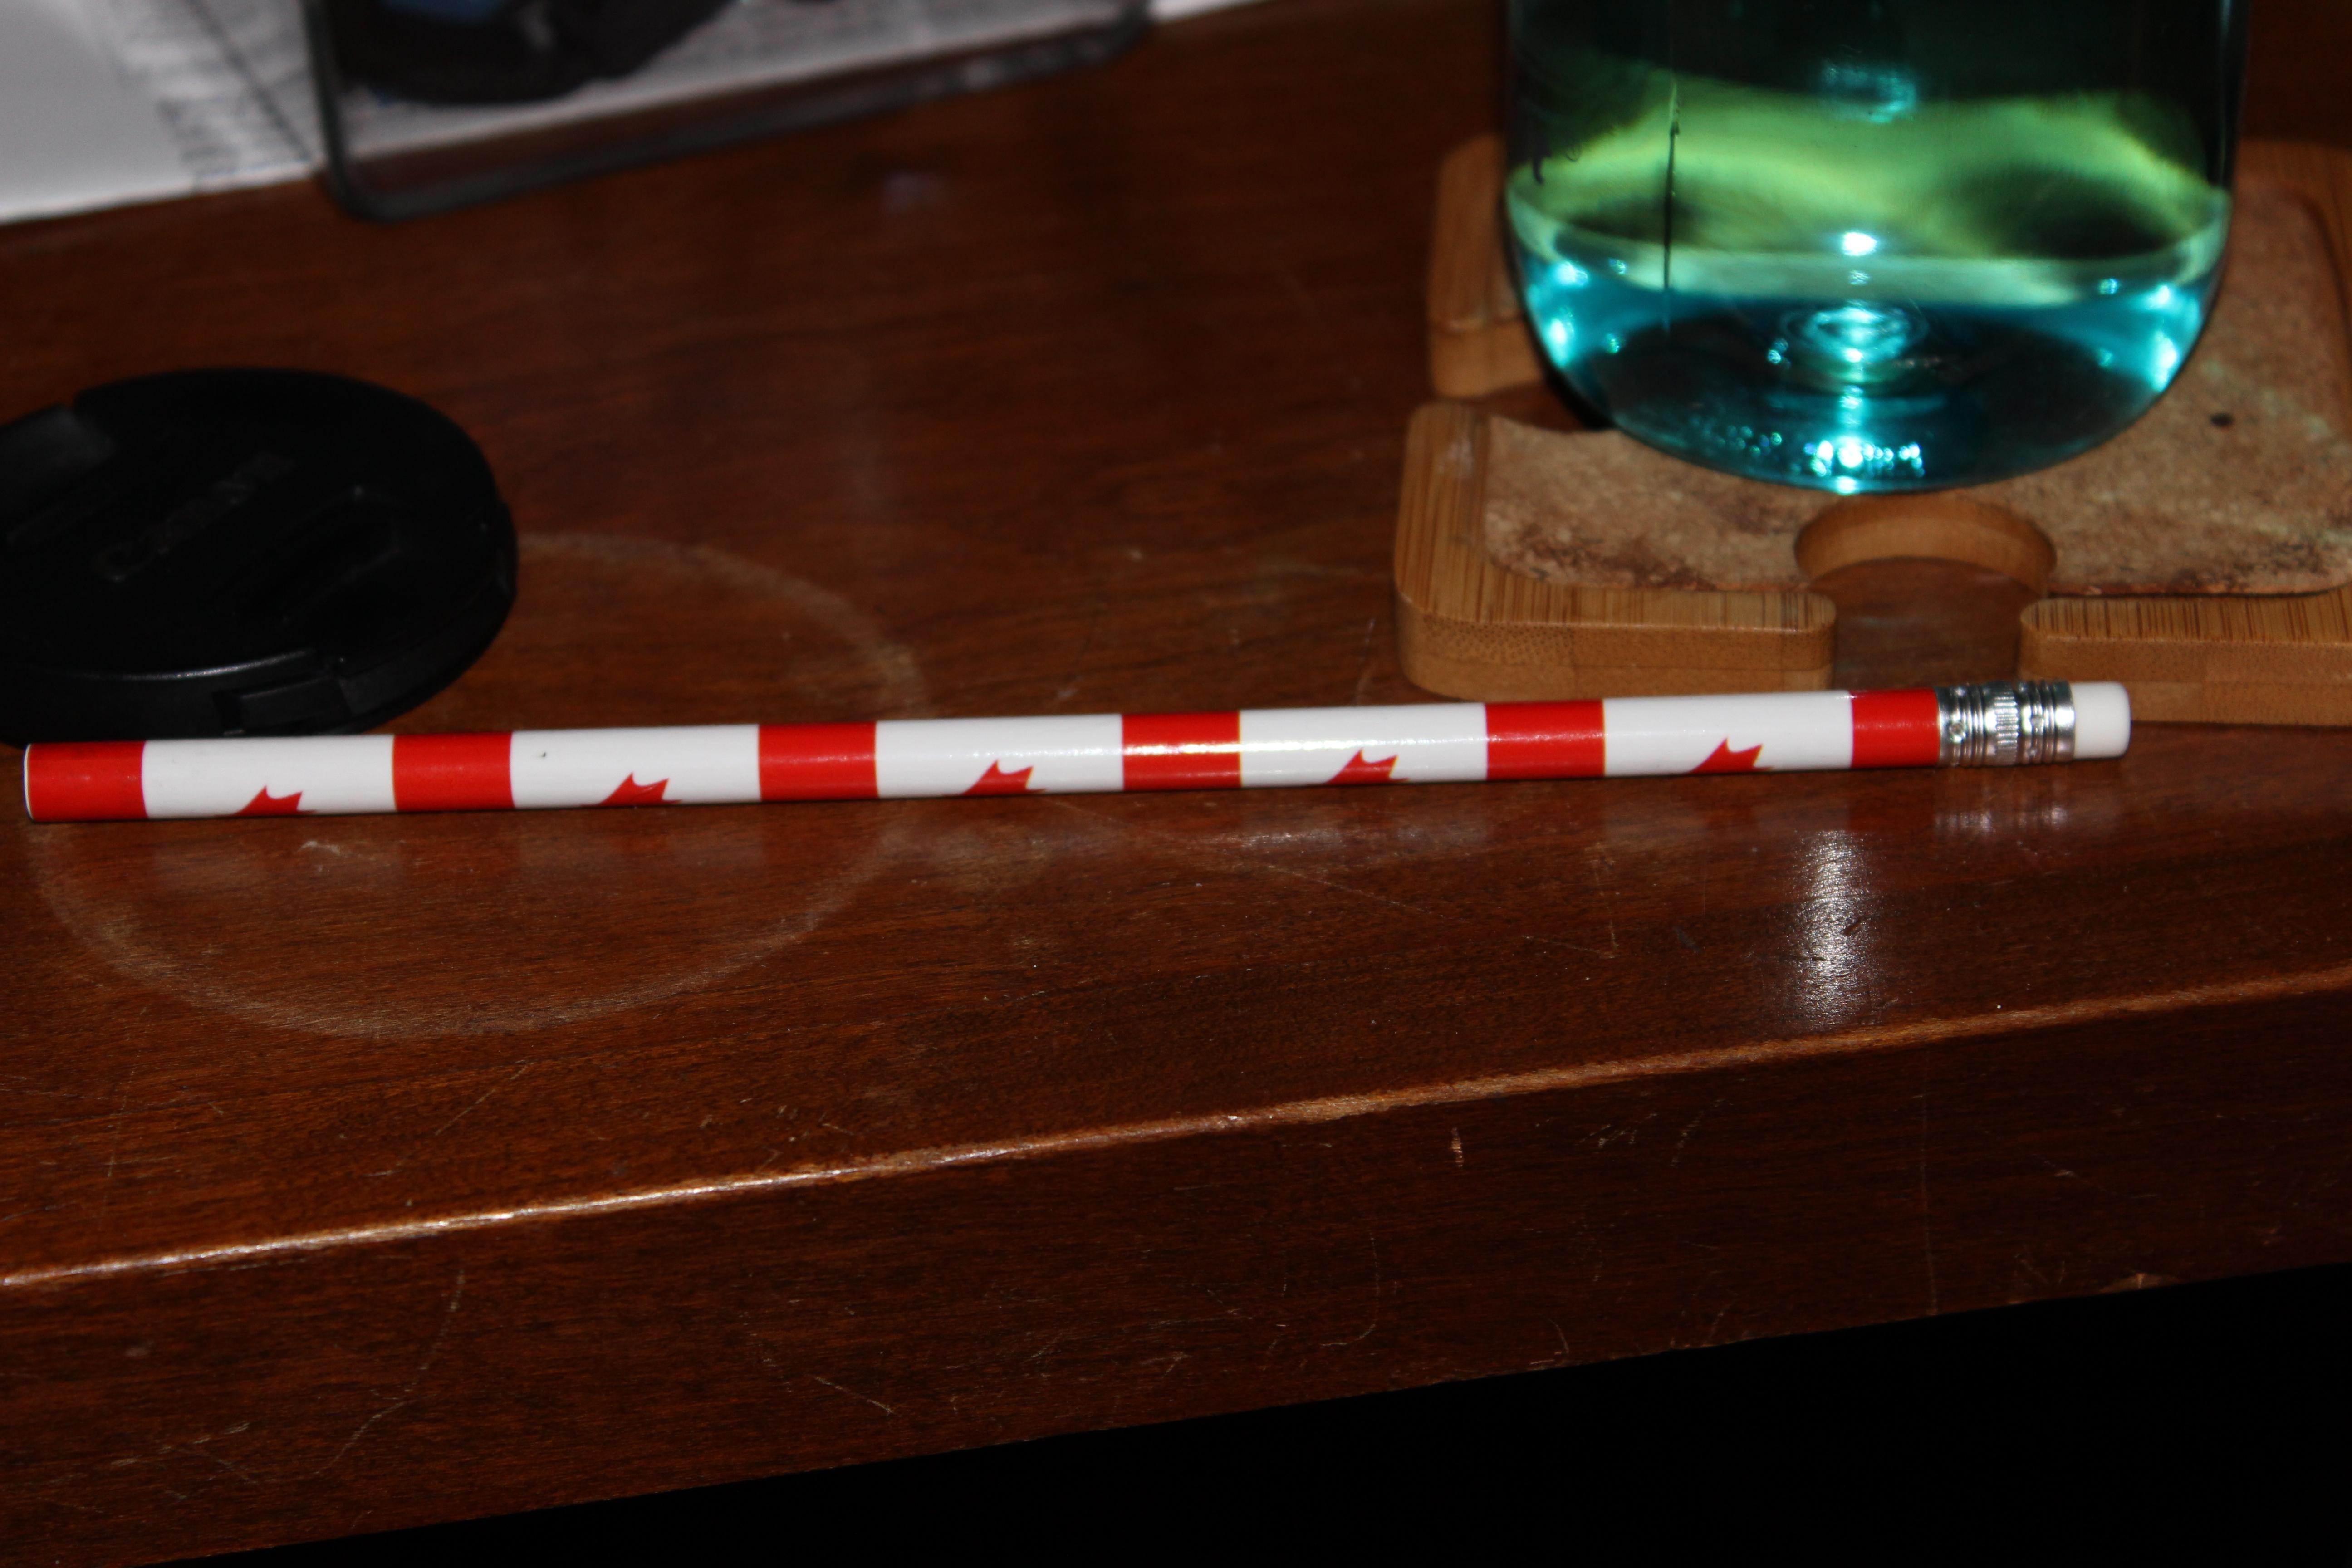canadaPencil: (14, 647, 2228, 887)
